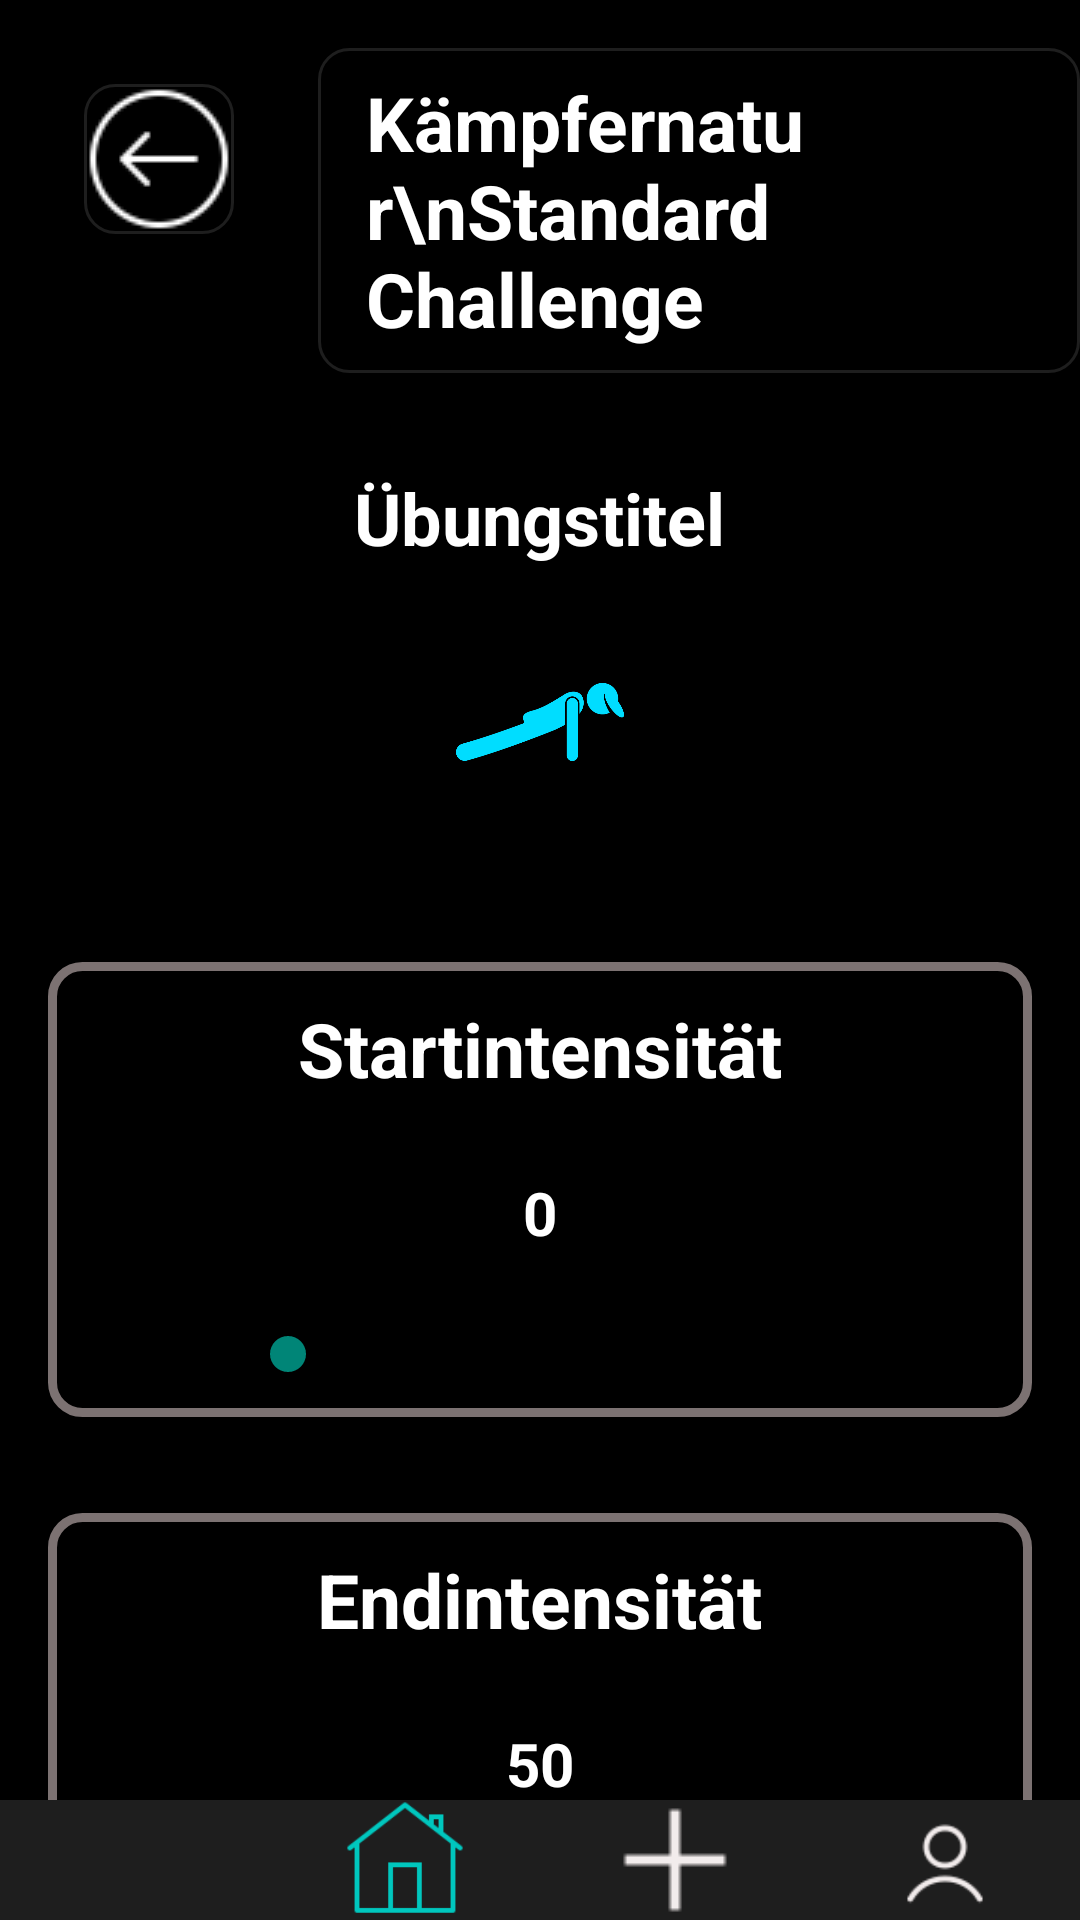

Icons on this 1080px x 1920px Android screen, each with its box as (left=x1, top=y1, right=x2, bottom=y2):
add: (left=623, top=1808, right=727, bottom=1912)
home: (left=347, top=1802, right=463, bottom=1913)
profile: (left=907, top=1824, right=983, bottom=1903)
pushups: (left=456, top=683, right=624, bottom=761)
Zurück: (left=84, top=84, right=234, bottom=234)
